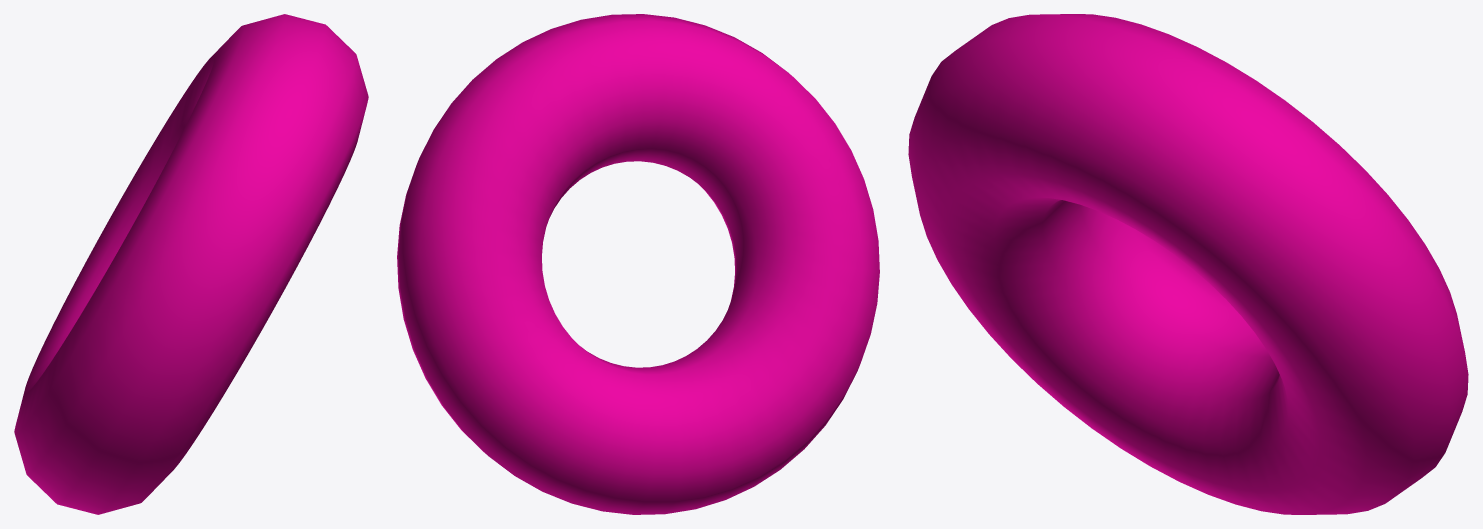
3 views of the same model, side by side, from view 1: azimuth 30°, elevation 25°; view 2: azimuth 150°, elevation 25°; view 3: azimuth 270°, elevation 25° (orthographic). The views are drawn at different scales.
Parts seen in each view (by area): view 1: Torus; view 2: Torus; view 3: Torus.
Part boxes in pixels (x1,y1,x2,y2): Torus: (14,14,368,514); Torus: (397,14,879,514); Torus: (908,14,1468,514).
Size of the model in its own units: 0.809 by 0.9209 by 0.8788.
